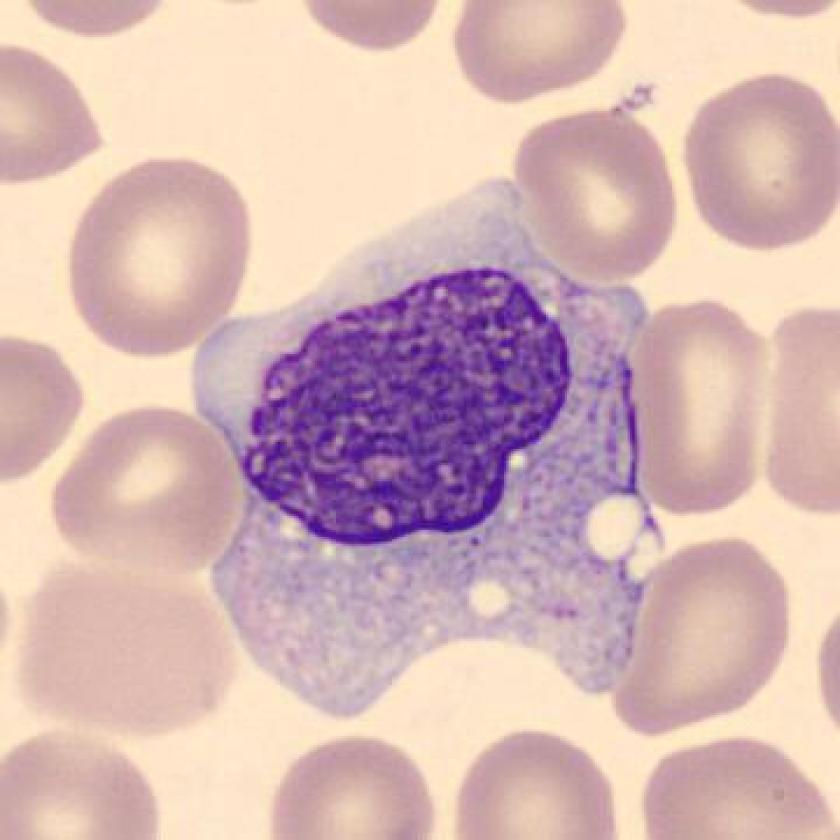monocyte: (167, 138, 701, 732)
